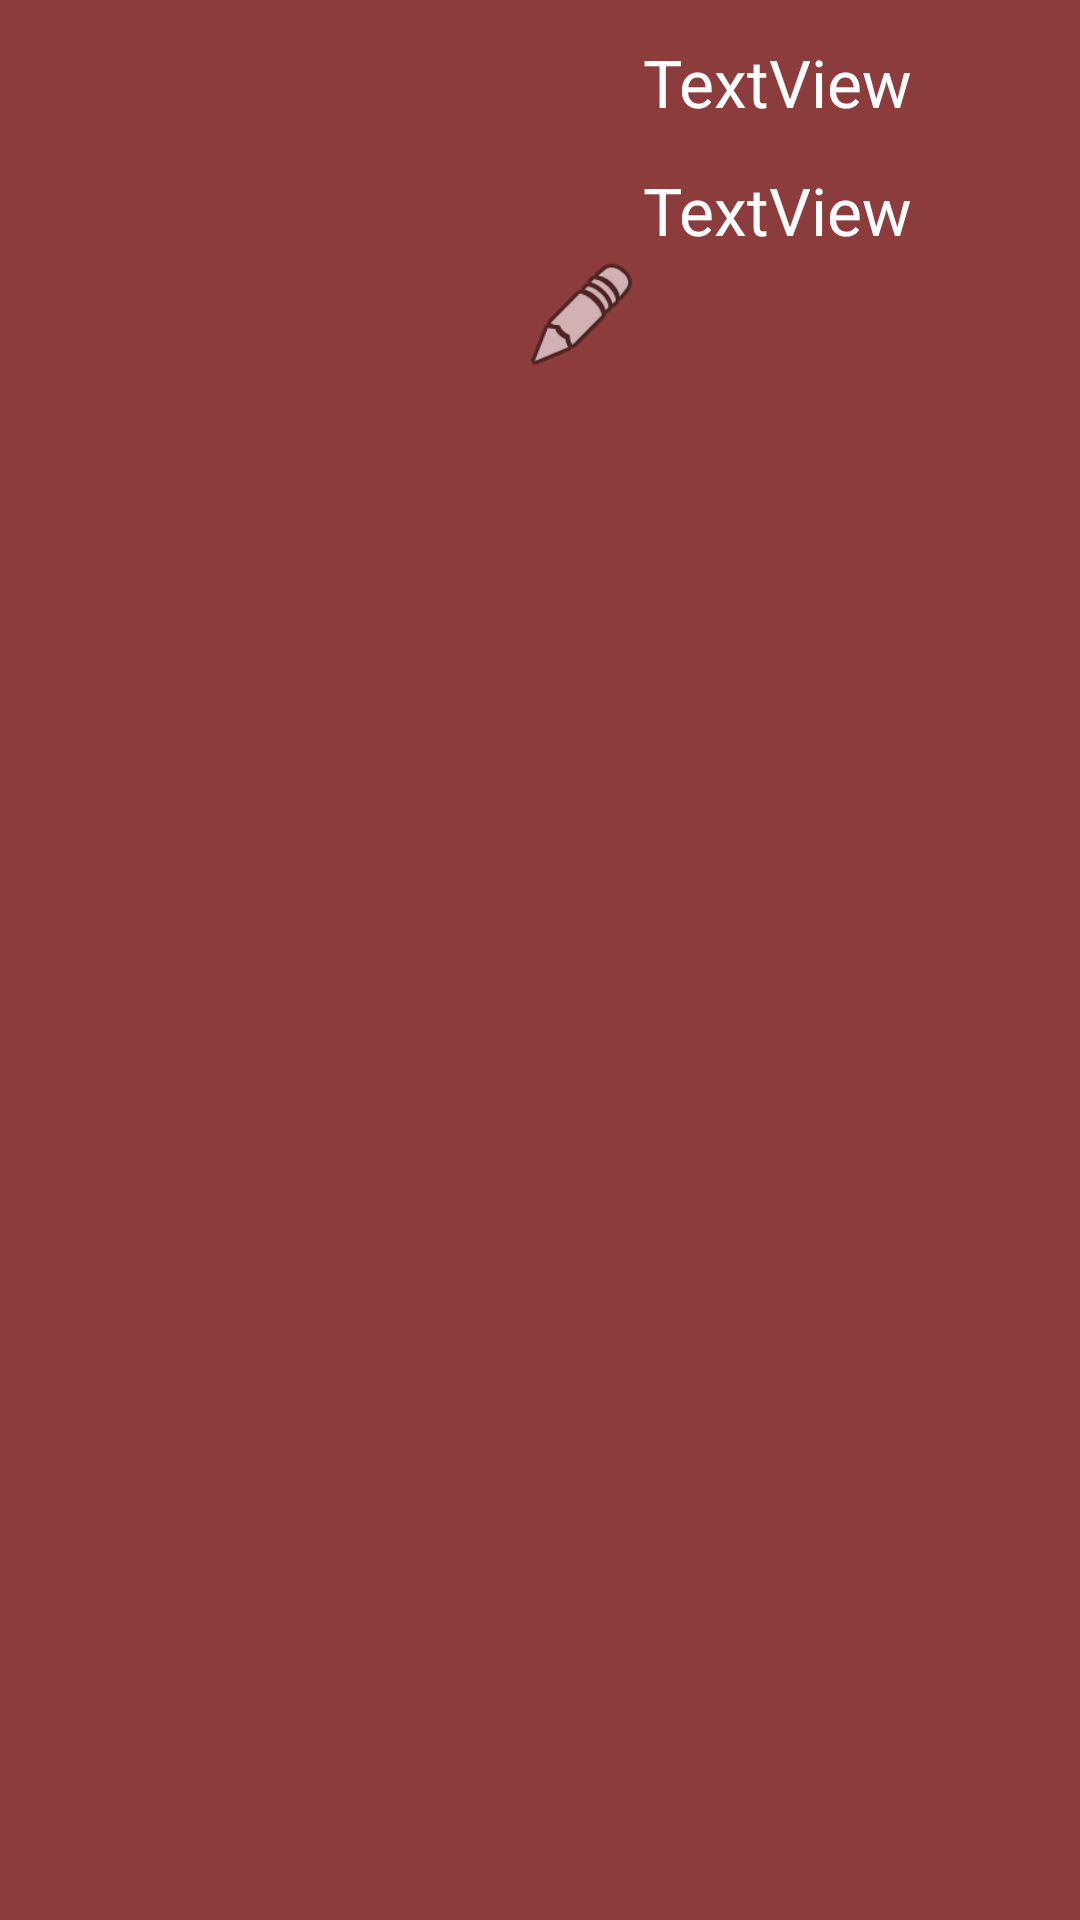

Icons on this 1080x1920 Android screen, each with its box as (x1, y1, x2, y2):
edit: (531, 264, 632, 365)
